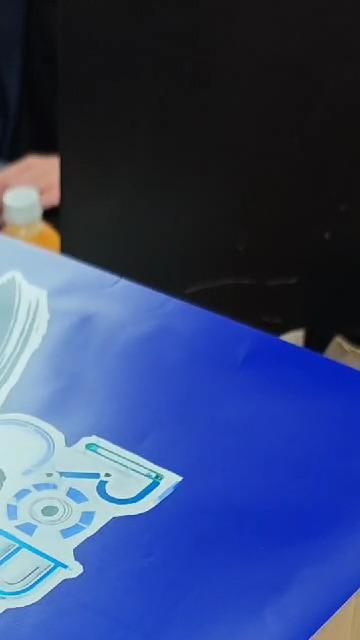B_R1: (0, 289, 171, 640)
